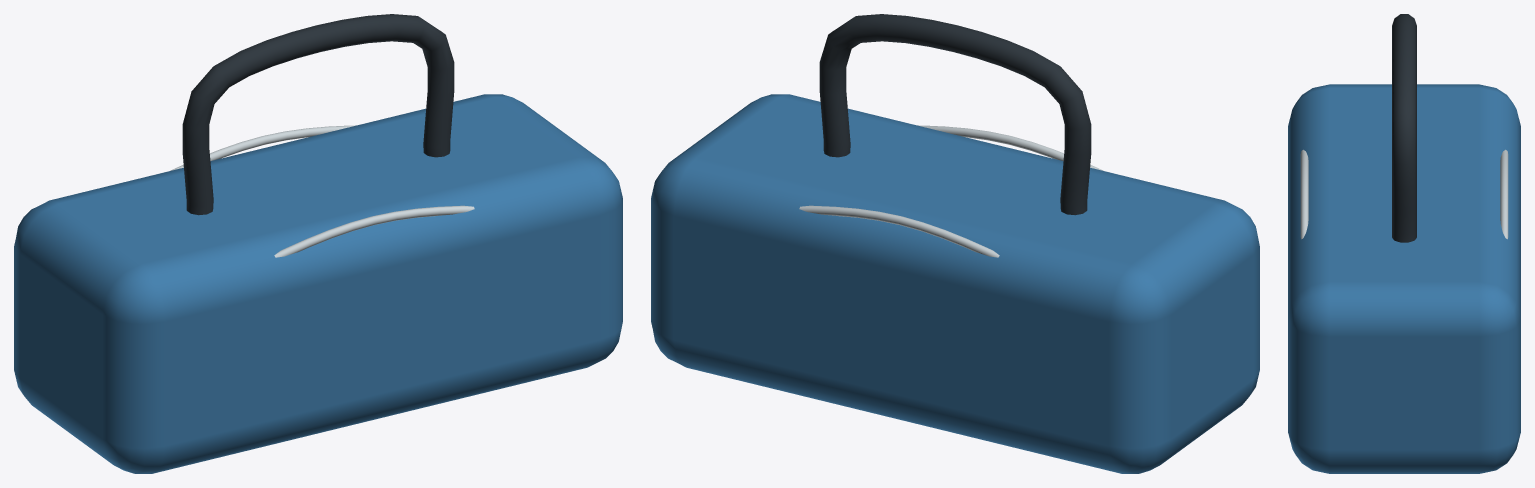
File: squash-club-and-racket-workshop-equipment-bag-487e54a5.glb
The picture shows the model from 3 angles, left to right: view 1: azimuth 30°, elevation 25°; view 2: azimuth 150°, elevation 25°; view 3: azimuth 270°, elevation 25°; orthographic projection. The views are drawn at different scales.
Visible parts, largest first — view 1: equipment-bag; view 2: equipment-bag; view 3: equipment-bag.
Boxes of the visible parts, <box> form: equipment-bag: <box>14,14,622,473</box>; equipment-bag: <box>651,14,1259,473</box>; equipment-bag: <box>1288,14,1520,473</box>.
Bounding box in the file's own units: 0.65 × 0.4355 × 0.28.
